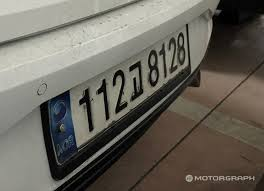car: (32, 22, 200, 170)
